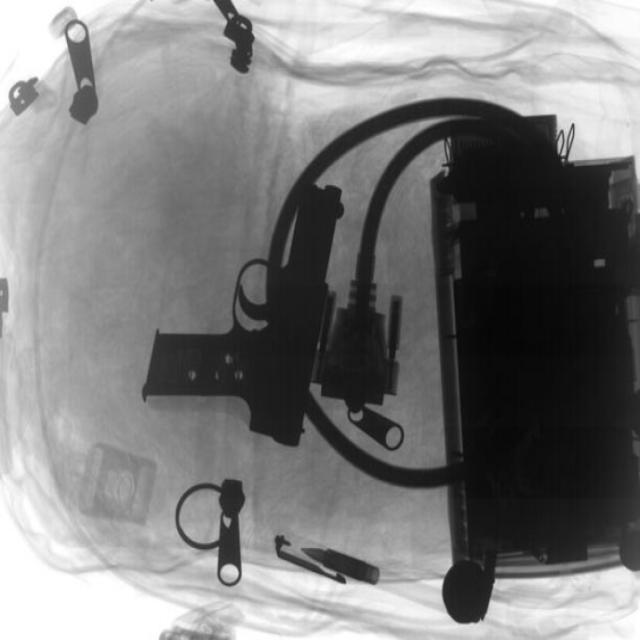GUN: (152, 175, 338, 450)
